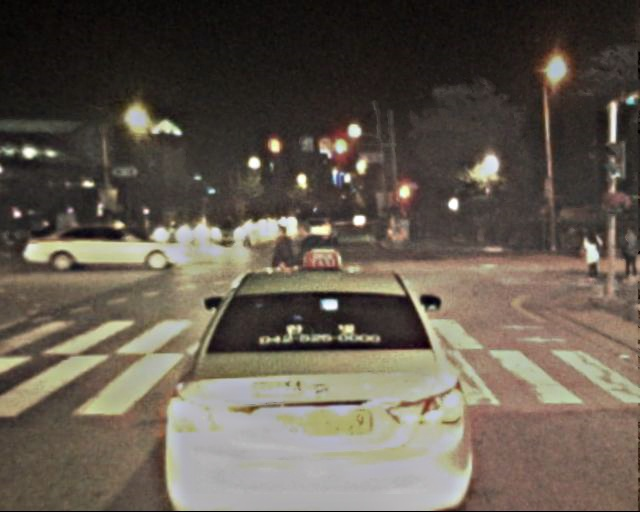person: (293, 216, 327, 321), (270, 219, 303, 317), (617, 227, 639, 285), (580, 228, 602, 281)
